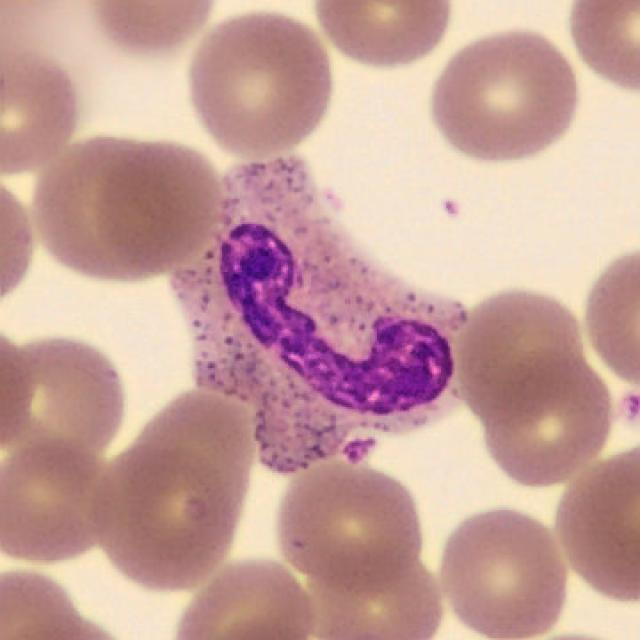Neutrofilo segmentado: (171, 156, 466, 475)
